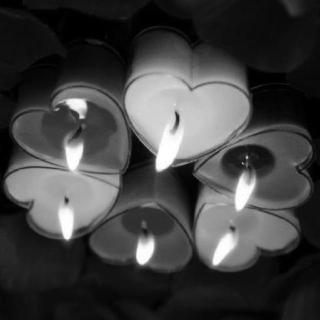Fire: (145, 96, 193, 186), (206, 226, 240, 272), (232, 166, 260, 216), (62, 126, 85, 170)
